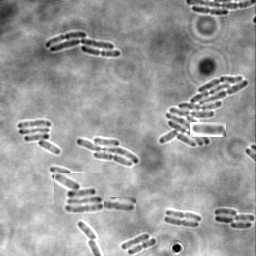Dividing: (90, 197, 136, 212), (190, 122, 226, 137), (128, 238, 157, 255), (166, 209, 202, 222), (164, 217, 200, 228), (192, 7, 229, 17)
Microcolony: (158, 76, 249, 147), (54, 173, 104, 214), (76, 137, 139, 168), (45, 32, 121, 57), (18, 120, 61, 155), (214, 208, 255, 229)
Rod: (121, 233, 150, 251), (78, 222, 99, 240), (50, 167, 72, 177)
